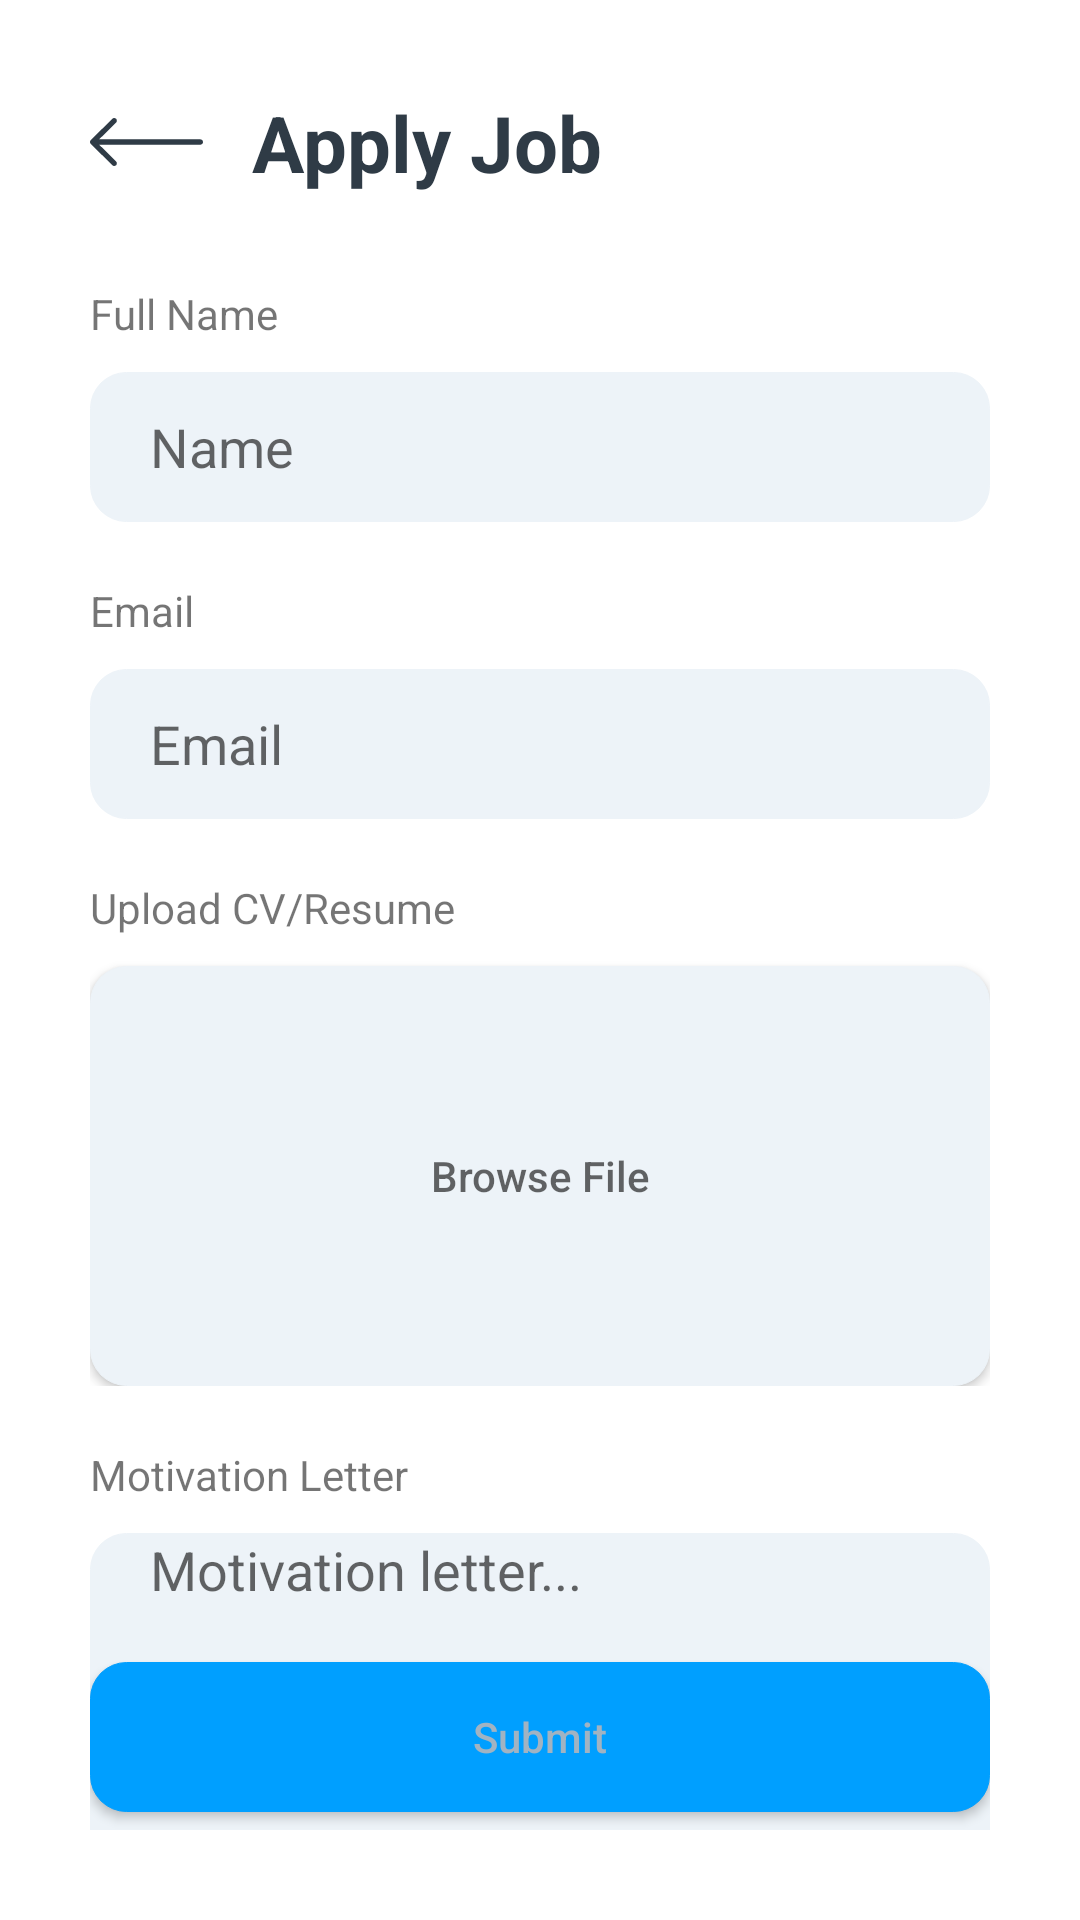

Named icons in this screenshot (1080*1920) and their centers, (x=x, y=y):
backward: (x=146, y=142)
